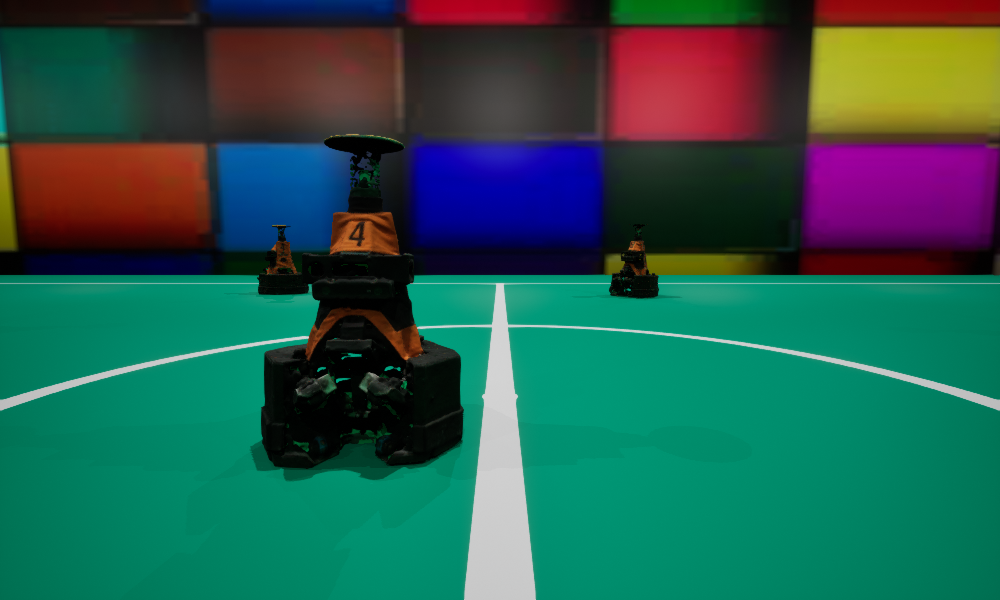o: (261, 134, 463, 467), (609, 224, 658, 297), (257, 225, 308, 294)
